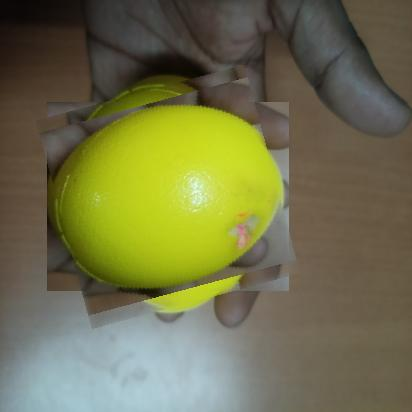Yellowball: (48, 77, 288, 317)
